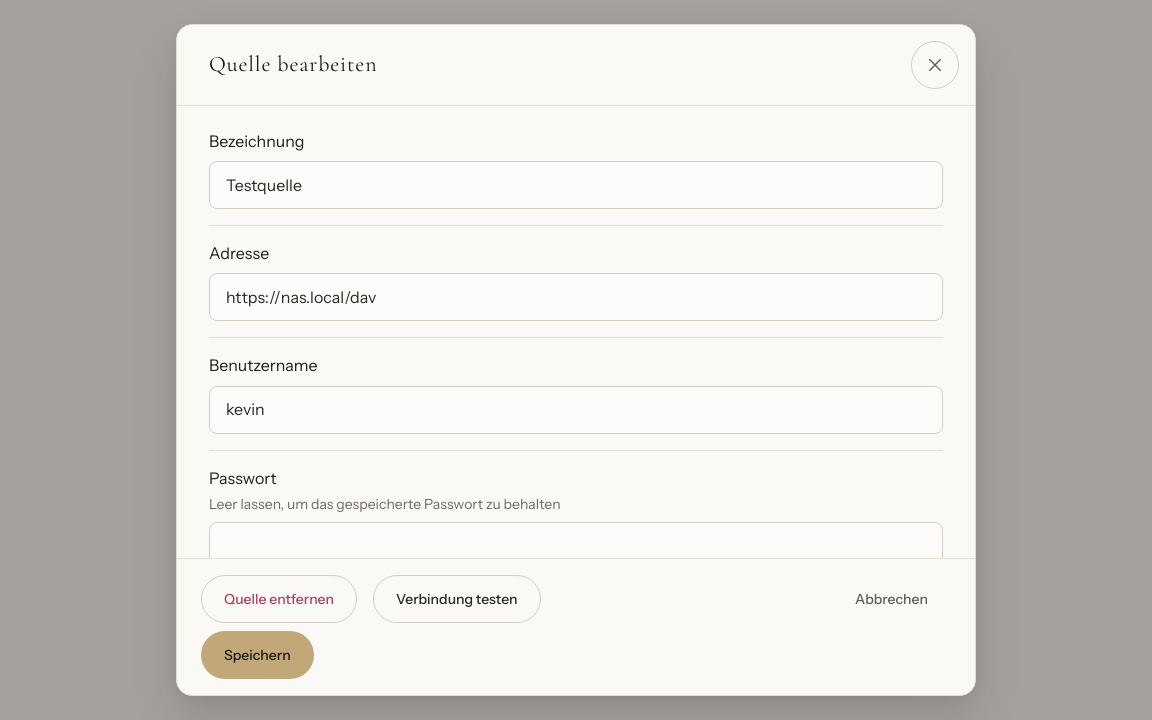
SourceDialog — Felder je Quellenart › laesst einen fehlgeschlagenen Test stehen und faerbt ihn als Fehler
Step 1. Click the button "Verbindung testen" → (457, 599), box x1=373 y1=575 x2=540 y2=623
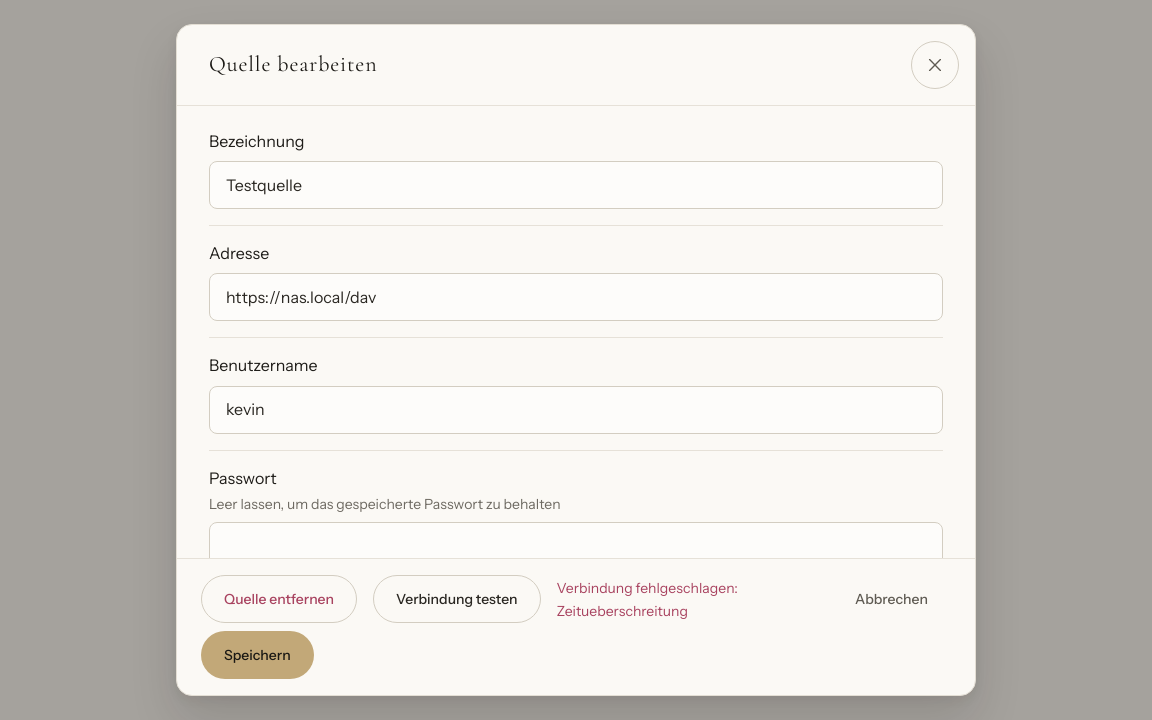
Now the message with class "error" shows "Zeitueberschreitung", box x1=557 y1=579 x2=738 y2=620
